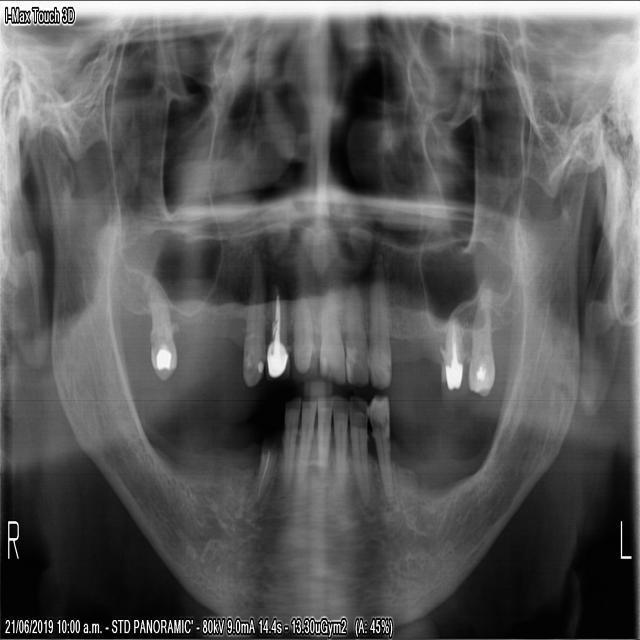LCD: (346, 388, 374, 515)
LCU: (365, 238, 393, 391)
LID: (329, 387, 349, 498), (313, 386, 331, 488)
LIU: (314, 262, 345, 391), (341, 265, 369, 390)
LMU: (464, 286, 497, 403), (435, 304, 468, 407)
LPMD: (365, 390, 396, 509)
RCU: (238, 246, 265, 391)
RID: (277, 389, 302, 494), (292, 389, 318, 489)
RIU: (287, 251, 319, 387), (263, 258, 290, 384)
RMU: (143, 276, 179, 385)
